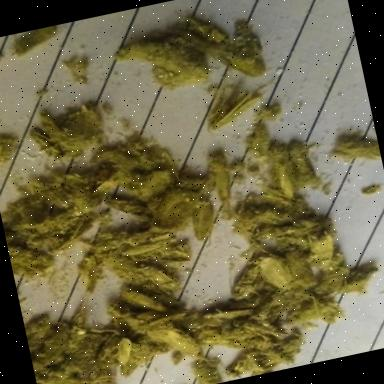pbw: (195, 84, 263, 133), (204, 34, 266, 84), (145, 316, 203, 362), (258, 179, 315, 225), (222, 252, 272, 301), (54, 300, 97, 356), (230, 308, 290, 348), (57, 330, 108, 376), (326, 126, 380, 169), (42, 214, 99, 254), (134, 253, 182, 300), (240, 192, 294, 233), (6, 235, 54, 281), (180, 8, 230, 52), (32, 318, 76, 368), (242, 288, 294, 330), (145, 184, 196, 226), (25, 169, 70, 216), (100, 187, 154, 226), (280, 237, 318, 292), (5, 24, 63, 60), (250, 335, 306, 372), (101, 246, 148, 290), (162, 20, 213, 60), (284, 133, 320, 189), (253, 217, 318, 248), (103, 296, 147, 340), (254, 247, 294, 294), (112, 338, 156, 378), (302, 228, 340, 274), (282, 296, 340, 326), (121, 280, 166, 318), (334, 264, 384, 298), (30, 122, 68, 166), (226, 13, 263, 58), (94, 228, 158, 254), (34, 103, 70, 149), (91, 324, 133, 363), (43, 160, 90, 194), (72, 248, 104, 297), (242, 119, 274, 167), (122, 134, 160, 174), (308, 264, 352, 298), (207, 151, 236, 201), (98, 140, 136, 178), (268, 141, 298, 188), (220, 345, 260, 380), (66, 176, 96, 220), (206, 300, 256, 326), (88, 168, 128, 200), (118, 236, 170, 260), (188, 197, 216, 238), (149, 245, 193, 270), (140, 308, 190, 330), (24, 321, 56, 351), (192, 354, 221, 384), (274, 162, 294, 200), (90, 359, 119, 384), (112, 336, 134, 366), (47, 373, 96, 384)
